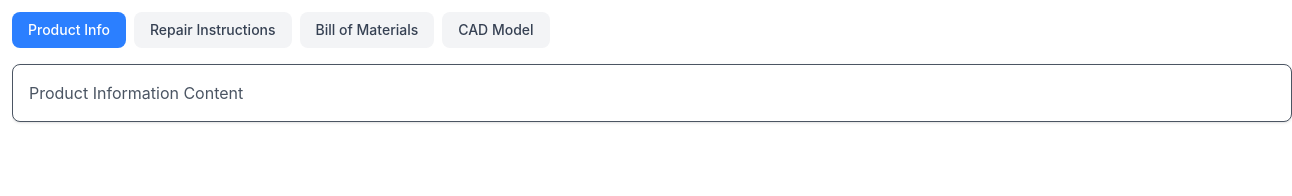
Test case: Tabs Component › renders Bill of Materials list when clicked
Click the button "Bill of Materials".
click(367, 30)  # box [300,12,434,48]
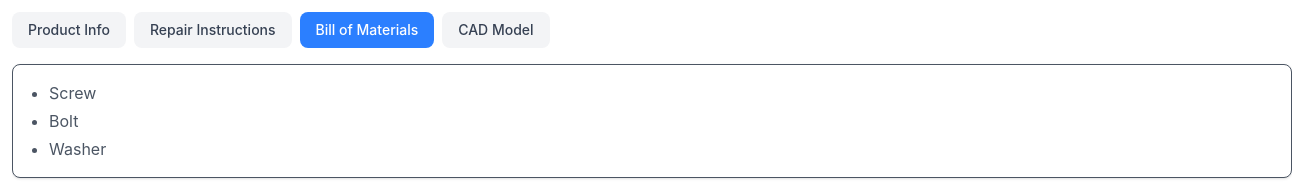
expect the list item "Screw" is shown: met, box [49,83,96,103]
expect the list item "Bolt" is shown: met, box [49,111,78,131]
expect the list item "Washer" is shown: met, box [49,139,106,159]
